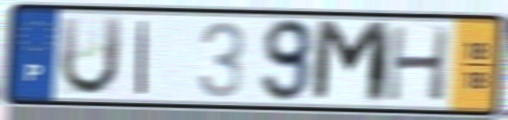3: (196, 20, 247, 100)
9: (257, 15, 315, 106)
H: (384, 23, 454, 104)
I: (133, 17, 152, 97)
M: (308, 17, 395, 108)
U: (56, 14, 126, 99)
